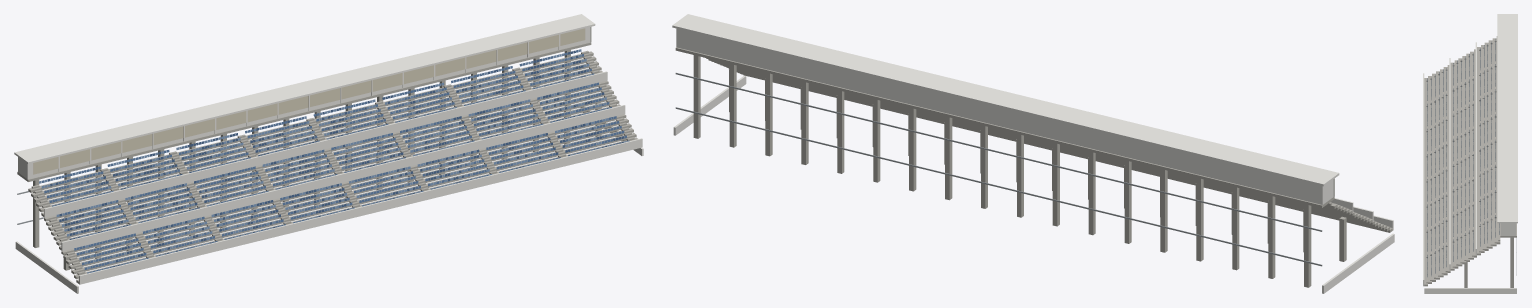
Rendered from mon_stand_k_c.glb.
3 renders of one model, left to right at view 1: azimuth 30°, elevation 25°; view 2: azimuth 150°, elevation 25°; view 3: azimuth 270°, elevation 25°, orthographic. The views are drawn at different scales.
Visible parts, largest first — view 1: monaco-grandstand-k; view 2: monaco-grandstand-k; view 3: monaco-grandstand-k.
Boxes of the visible parts, x1,y1,x2,y2 form: monaco-grandstand-k: (14,14,643,293); monaco-grandstand-k: (672,14,1394,293); monaco-grandstand-k: (1423,14,1517,293).
Size of the model in its own units: 101 by 16.3 by 19.45.
